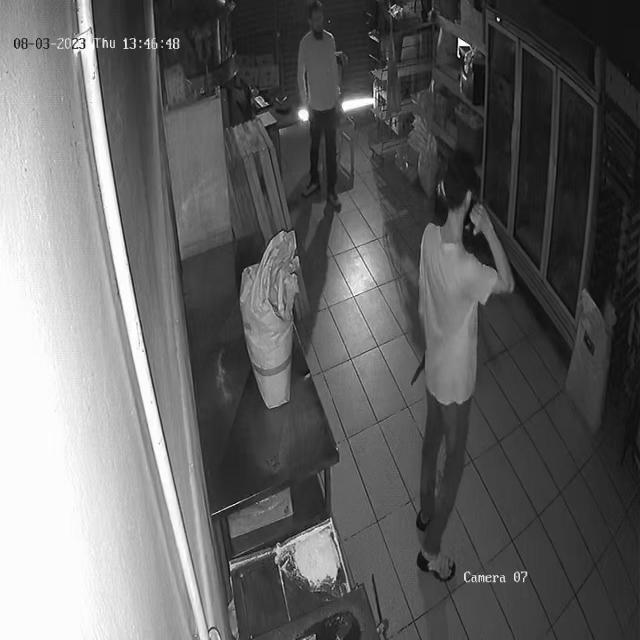Knife: (406, 352, 430, 391)
